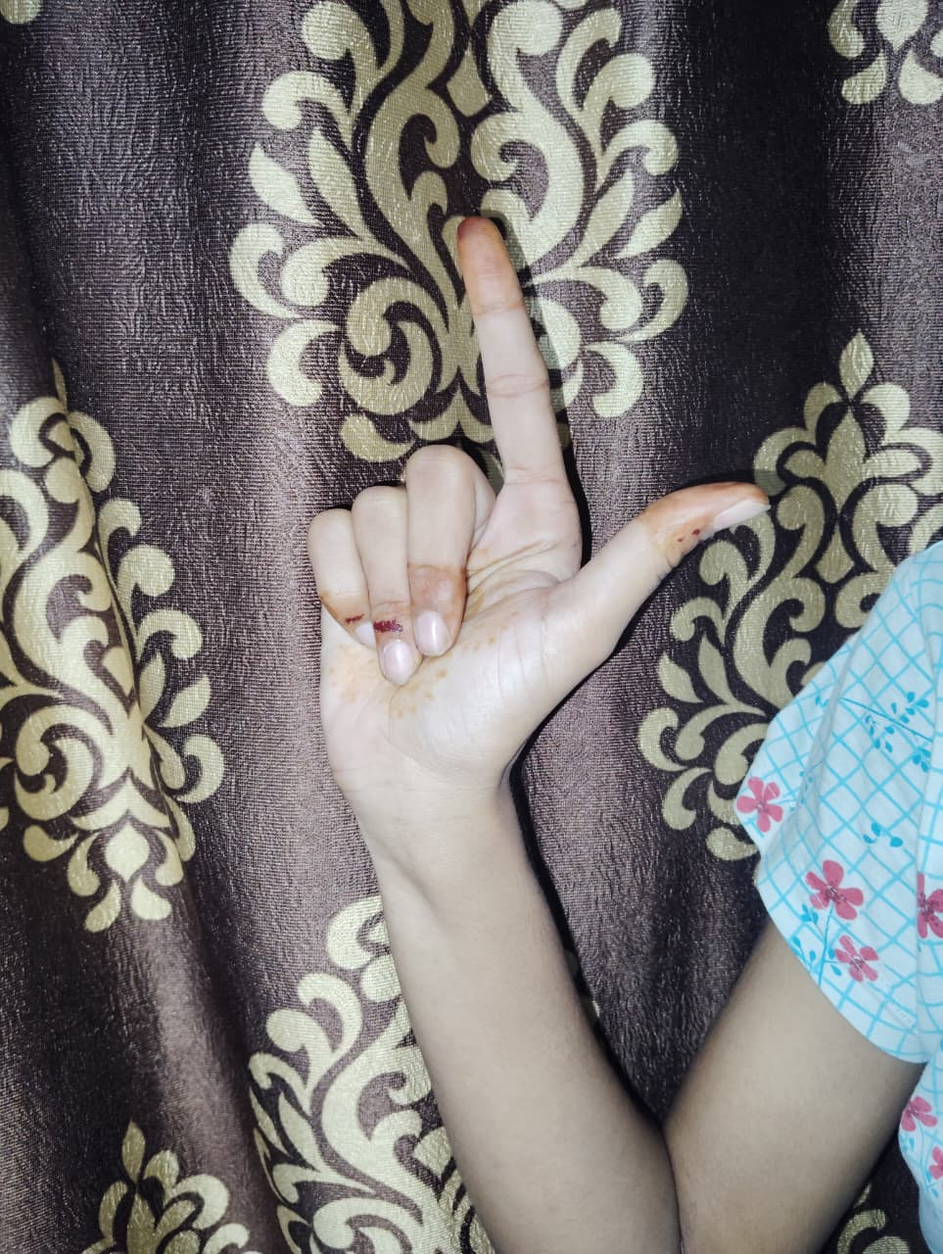L: (316, 214, 770, 770)
